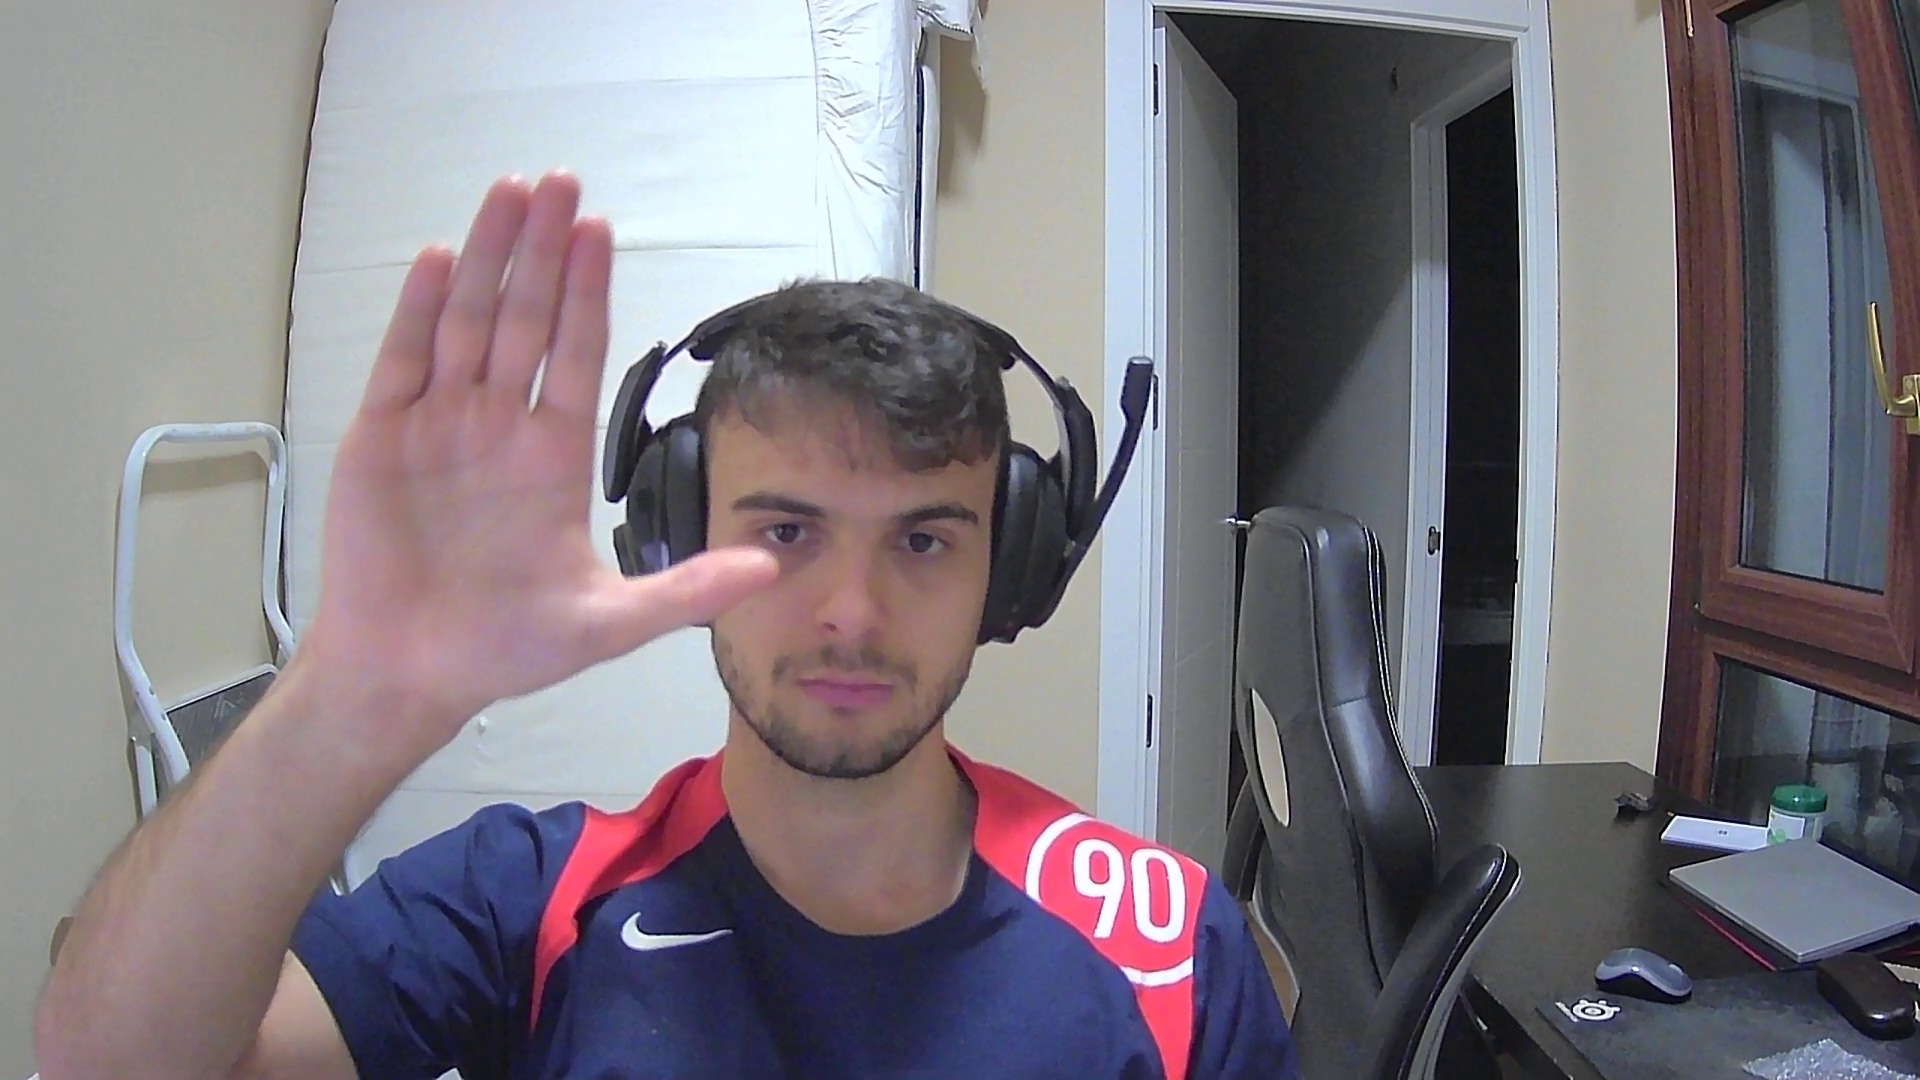Palm: (285, 165, 782, 679)
